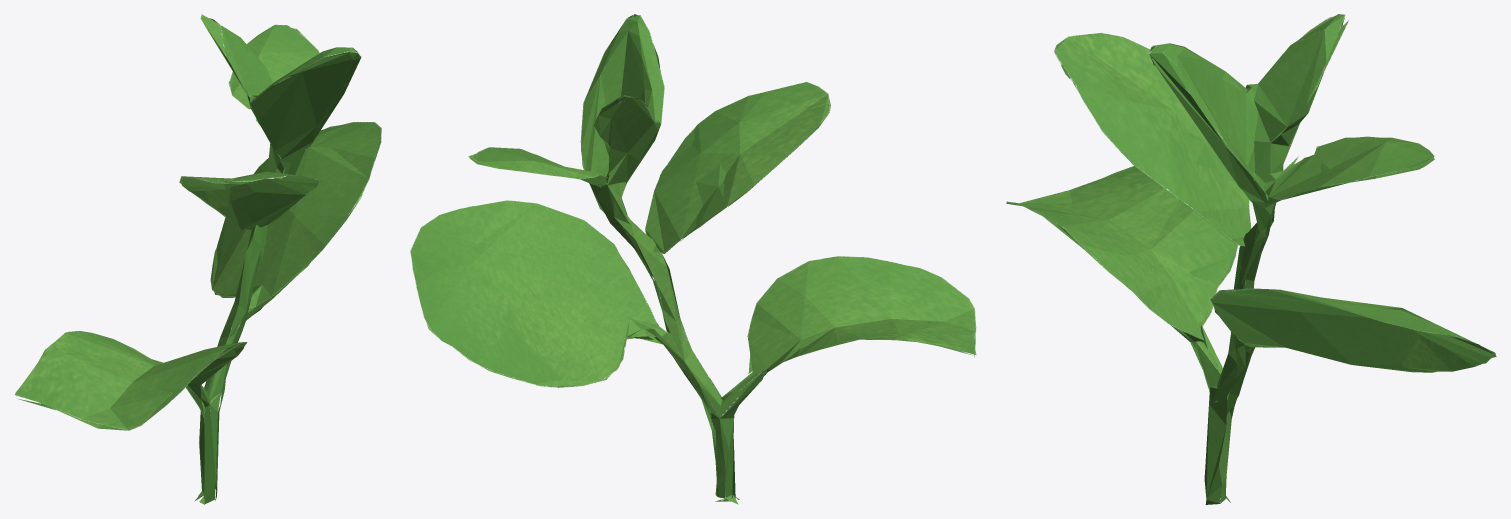
File: Plant_1_Fixed.glb
3 views of the same model, side by side, from view 1: azimuth 30°, elevation 25°; view 2: azimuth 150°, elevation 25°; view 3: azimuth 270°, elevation 25° (orthographic). The views are drawn at different scales.
Visible parts, largest first — view 1: geometry_0.008; view 2: geometry_0.008; view 3: geometry_0.008.
Part boxes in pixels (x1,y1,x2,y2): geometry_0.008: (14, 14, 381, 504); geometry_0.008: (410, 14, 976, 504); geometry_0.008: (1006, 14, 1496, 504).
Size of the model in its own units: 0.1571 by 0.145 by 0.122.
Materials: 1 (1 with a texture image).
